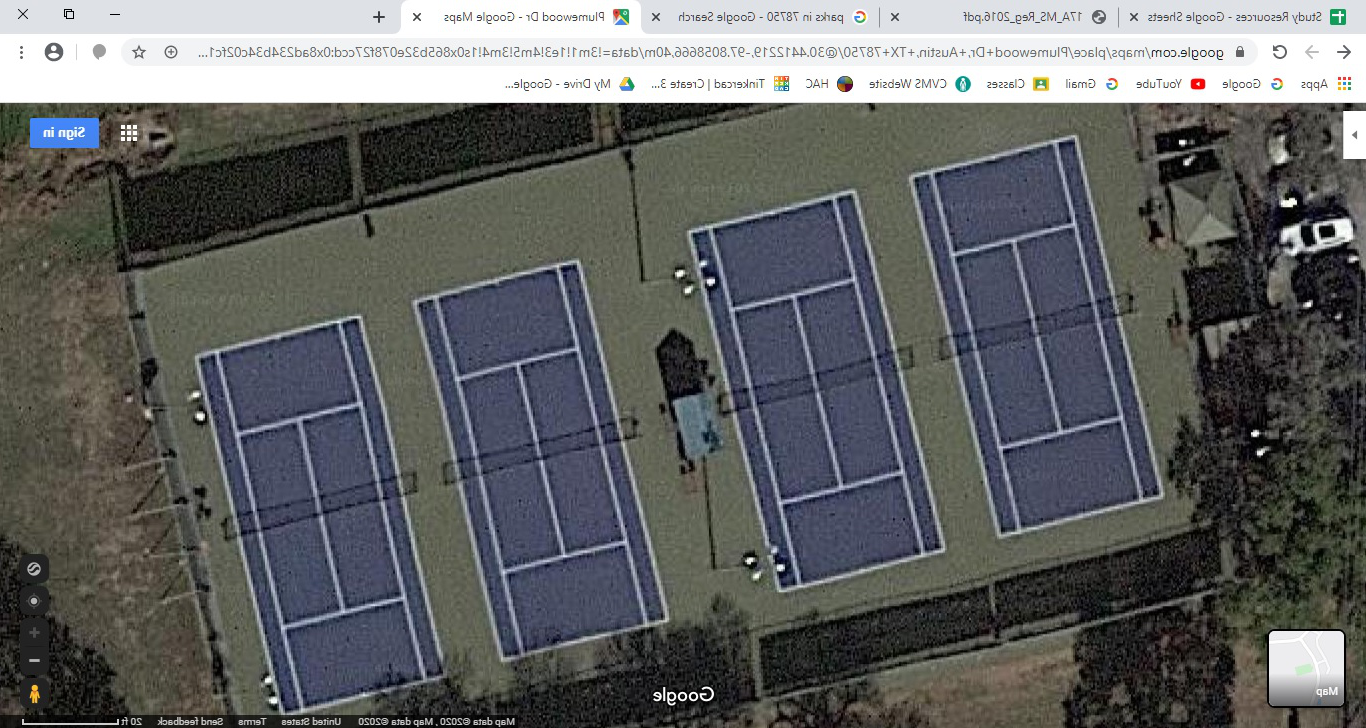tennis: (651, 181, 951, 645), (174, 304, 389, 710)
